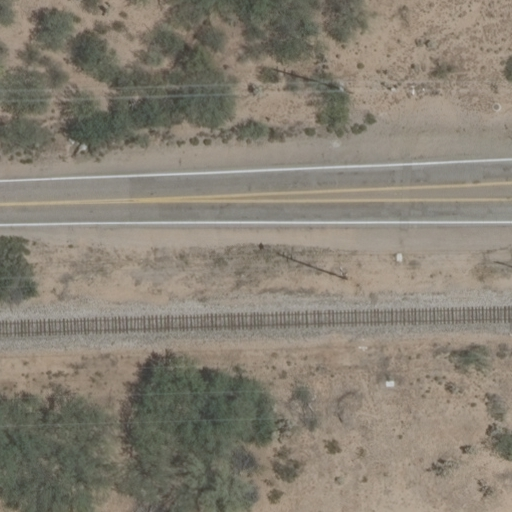DT: (276, 245, 348, 277), (275, 68, 341, 93)
